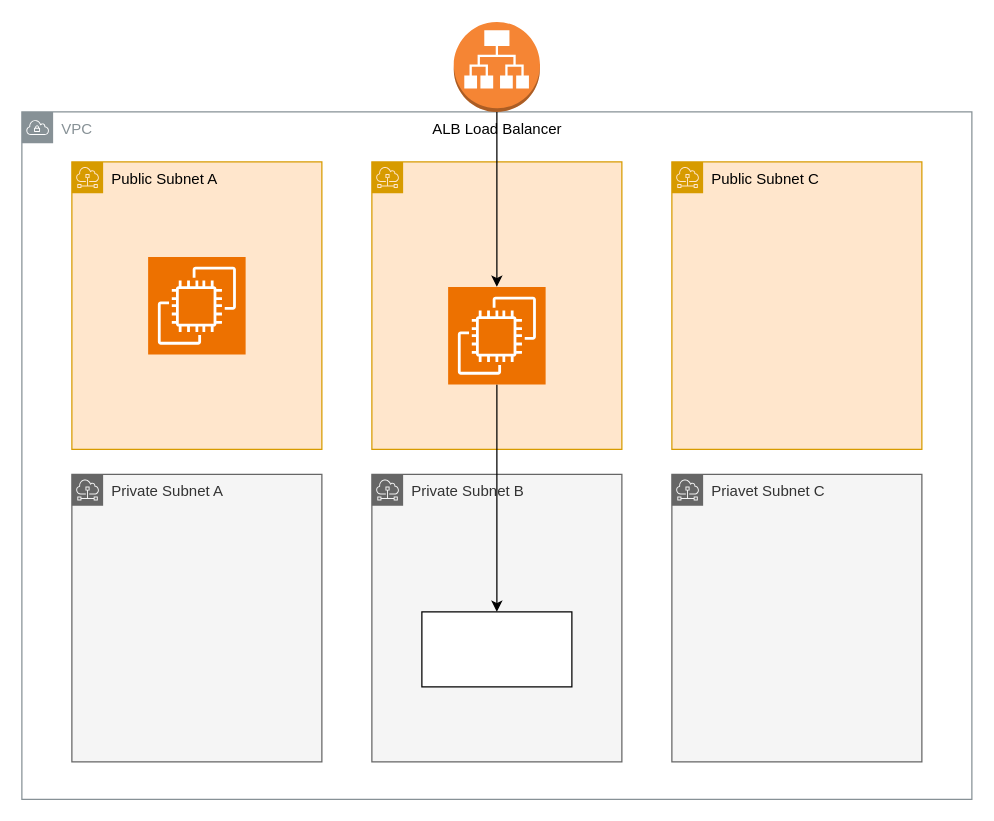
Image size: 994x821. Some labels were removed from this diagram. The box of each missing label's shape, as (x1, y1, x2, y2) in pixels:
EC2 1: (147, 256, 246, 354)
EC2 2: (447, 286, 546, 384)
MYSQL DB: (421, 611, 572, 687)
Public Subnet B: (371, 161, 622, 449)
